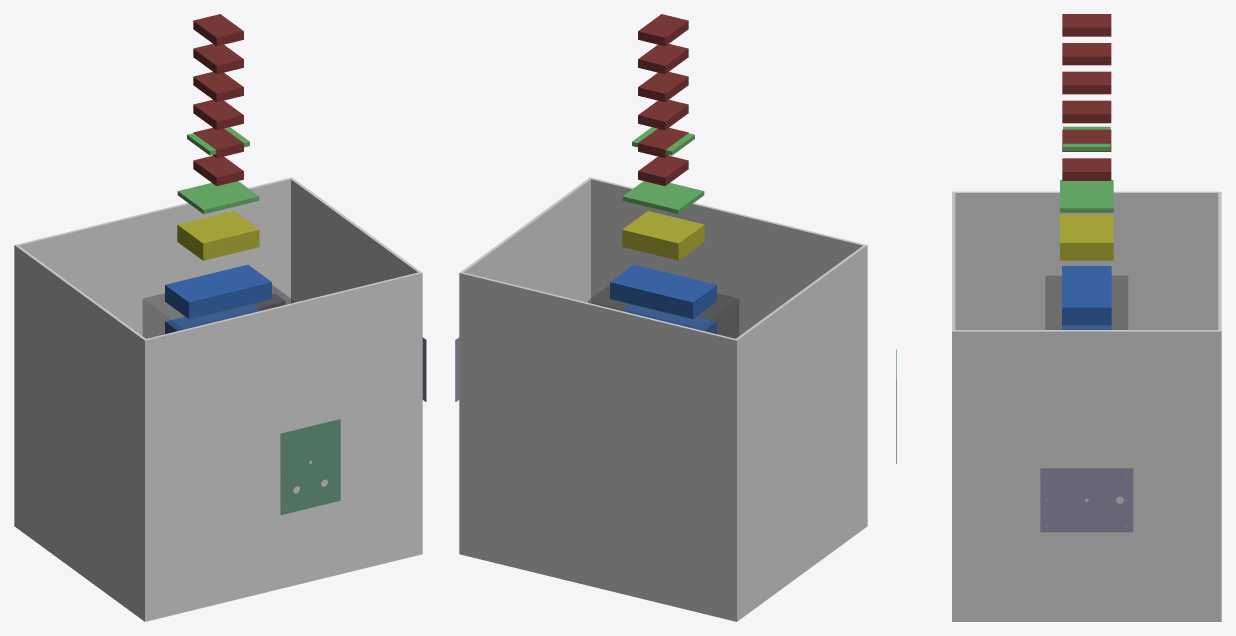
Rendered from assembly-exploded.glb.
The picture shows the model from 3 angles, left to right: view 1: azimuth 30°, elevation 25°; view 2: azimuth 150°, elevation 25°; view 3: azimuth 270°, elevation 25°; orthographic projection. The views are drawn at different scales.
Visible parts, largest first — view 1: container_shell, ARC-PLT-CD, CMP-NODE-002#7, CMP-CDU-001, CMP-RACK-001, CMP-SWITCH-001, CMP-PDU-001#6, CMP-PDU-001#3, CMP-PDU-001#1, CMP-PDU-001#4, CMP-PDU-001#5, CMP-NODE-002#6 (+1 smaller); view 2: container_shell, CMP-NODE-002#7, CMP-CDU-001, CMP-RACK-001, CMP-SWITCH-001, CMP-PDU-001#6, CMP-PDU-001#3, CMP-PDU-001#1, CMP-PDU-001#4, CMP-PDU-001#5, CMP-NODE-002#6, CMP-PDU-001#2; view 3: container_shell, ARC-PLT-CG, CMP-NODE-002#7, CMP-CDU-001, CMP-RACK-001, CMP-SWITCH-001, CMP-PDU-001#3, CMP-PDU-001#4, CMP-PDU-001#1, CMP-PDU-001#6, CMP-PDU-001#5, CMP-PDU-001#2 (+1 smaller).
Part boxes in pixels (x1=…): container_shell: x1=14, y1=177, x2=422, y2=621; ARC-PLT-CD: x1=280, y1=419, x2=340, y2=515; CMP-NODE-002#7: x1=165, y1=264, x2=271, y2=319; CMP-CDU-001: x1=177, y1=211, x2=259, y2=260; CMP-RACK-001: x1=143, y1=285, x2=293, y2=338; CMP-SWITCH-001: x1=177, y1=181, x2=259, y2=214; CMP-PDU-001#6: x1=193, y1=14, x2=243, y2=46; CMP-PDU-001#3: x1=193, y1=100, x2=243, y2=130; CMP-PDU-001#1: x1=193, y1=155, x2=243, y2=185; CMP-PDU-001#4: x1=193, y1=72, x2=243, y2=102; CMP-PDU-001#5: x1=193, y1=44, x2=243, y2=74; CMP-NODE-002#6: x1=165, y1=304, x2=260, y2=334; container_shell: x1=459, y1=177, x2=867, y2=621; CMP-NODE-002#7: x1=610, y1=264, x2=716, y2=319; CMP-CDU-001: x1=622, y1=211, x2=704, y2=260; CMP-RACK-001: x1=588, y1=285, x2=738, y2=338; CMP-SWITCH-001: x1=622, y1=181, x2=704, y2=214; CMP-PDU-001#6: x1=638, y1=14, x2=688, y2=46; CMP-PDU-001#3: x1=638, y1=100, x2=688, y2=130; CMP-PDU-001#1: x1=638, y1=155, x2=688, y2=185; CMP-PDU-001#4: x1=638, y1=72, x2=688, y2=102; CMP-PDU-001#5: x1=638, y1=44, x2=688, y2=74; CMP-NODE-002#6: x1=621, y1=304, x2=716, y2=334; CMP-PDU-001#2: x1=638, y1=127, x2=688, y2=157; container_shell: x1=952, y1=191, x2=1221, y2=621; ARC-PLT-CG: x1=1040, y1=468, x2=1133, y2=532; CMP-NODE-002#7: x1=1062, y1=266, x2=1111, y2=325; CMP-CDU-001: x1=1060, y1=214, x2=1113, y2=260; CMP-RACK-001: x1=1045, y1=276, x2=1127, y2=329; CMP-SWITCH-001: x1=1060, y1=180, x2=1113, y2=212; CMP-PDU-001#3: x1=1062, y1=100, x2=1111, y2=123; CMP-PDU-001#4: x1=1062, y1=71, x2=1111, y2=94; CMP-PDU-001#1: x1=1062, y1=158, x2=1111, y2=180; CMP-PDU-001#6: x1=1062, y1=14, x2=1111, y2=36; CMP-PDU-001#5: x1=1062, y1=43, x2=1111, y2=65; CMP-PDU-001#2: x1=1062, y1=129, x2=1111, y2=151.
Bounding box in the file's own units: 3494 × 5296 × 2941.
